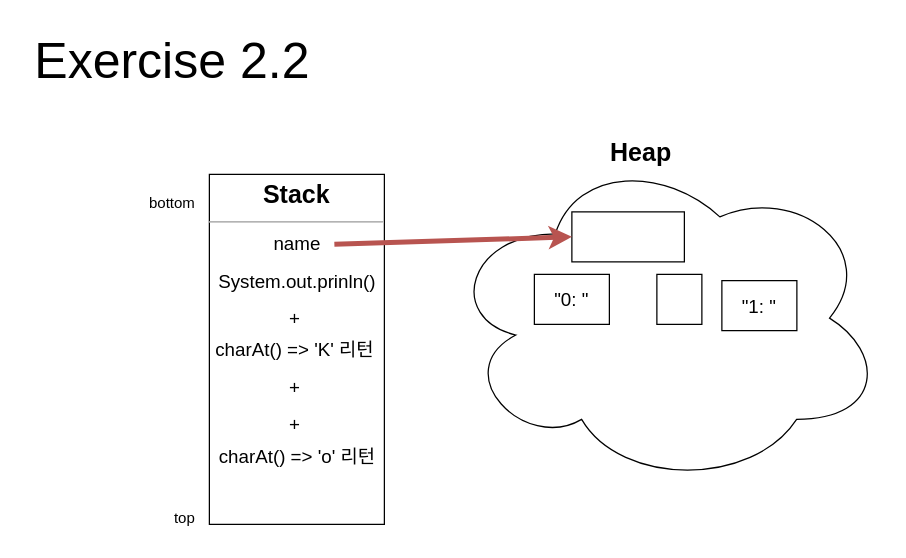
Some shapes in this 906 by 558 pixel diagram are drawn without their labels. Each missing label, with the centre of its shape:
"\n": pixel 679 298
"KimBaBo": pixel 627 236
